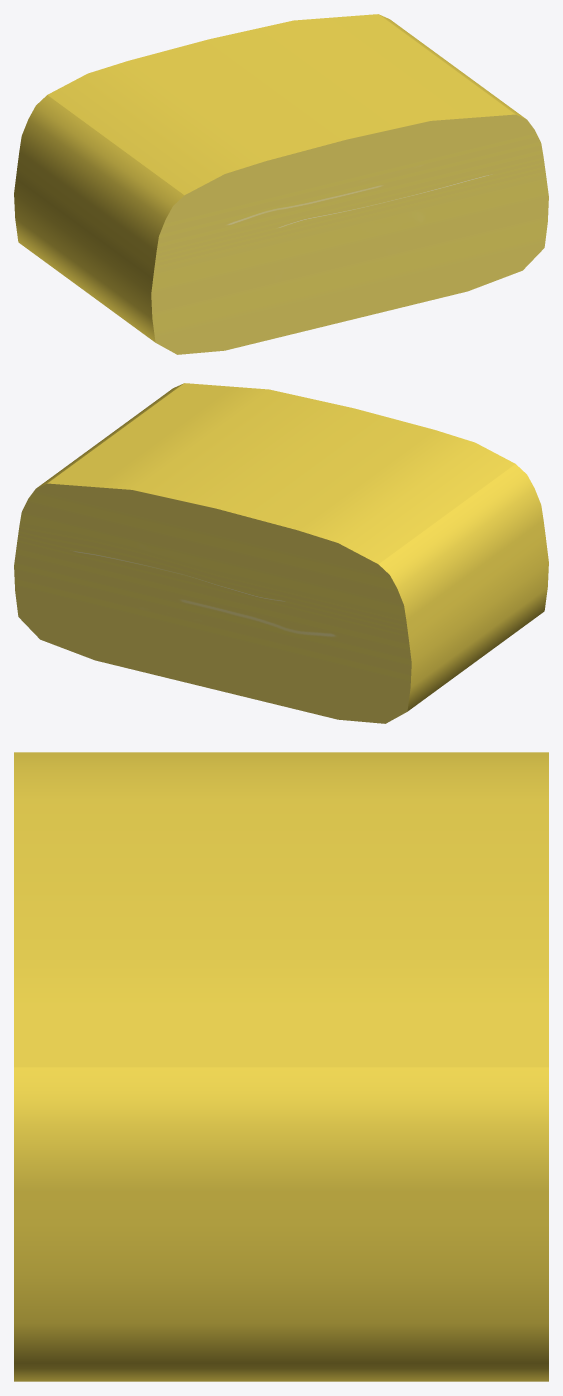
File: Aseet_06_02_TamagoYaki.fbx
3 views of the same model, one above another, from view 1: azimuth 30°, elevation 25°; view 2: azimuth 150°, elevation 25°; view 3: azimuth 270°, elevation 25° (orthographic). The views are drawn at different scales.
Parts seen in each view (by area): view 1: SK_06_02_TamagoYaki; view 2: SK_06_02_TamagoYaki; view 3: SK_06_02_TamagoYaki.
Part boxes in pixels (x1,y1,x2,y2): SK_06_02_TamagoYaki: (14, 14, 548, 354); SK_06_02_TamagoYaki: (14, 383, 548, 723); SK_06_02_TamagoYaki: (14, 752, 548, 1381).
Size of the model in its own units: 0.3161 by 0.1377 by 0.1888.
Materials: 1 (1 with a texture image).
